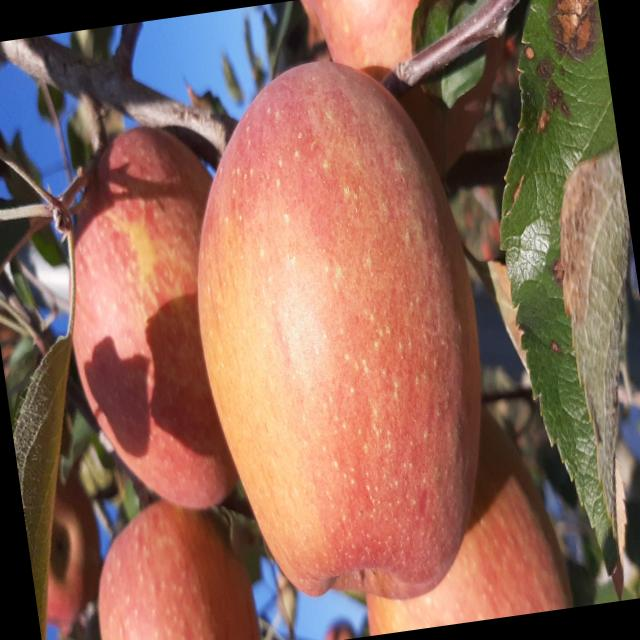fresh: (159, 30, 520, 632)
